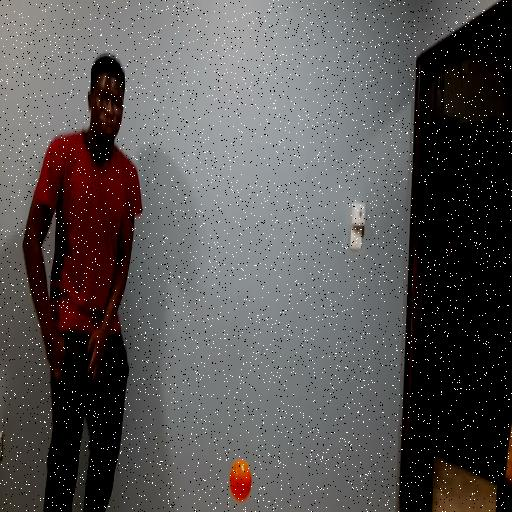plastic-ball: (228, 455, 255, 505)
